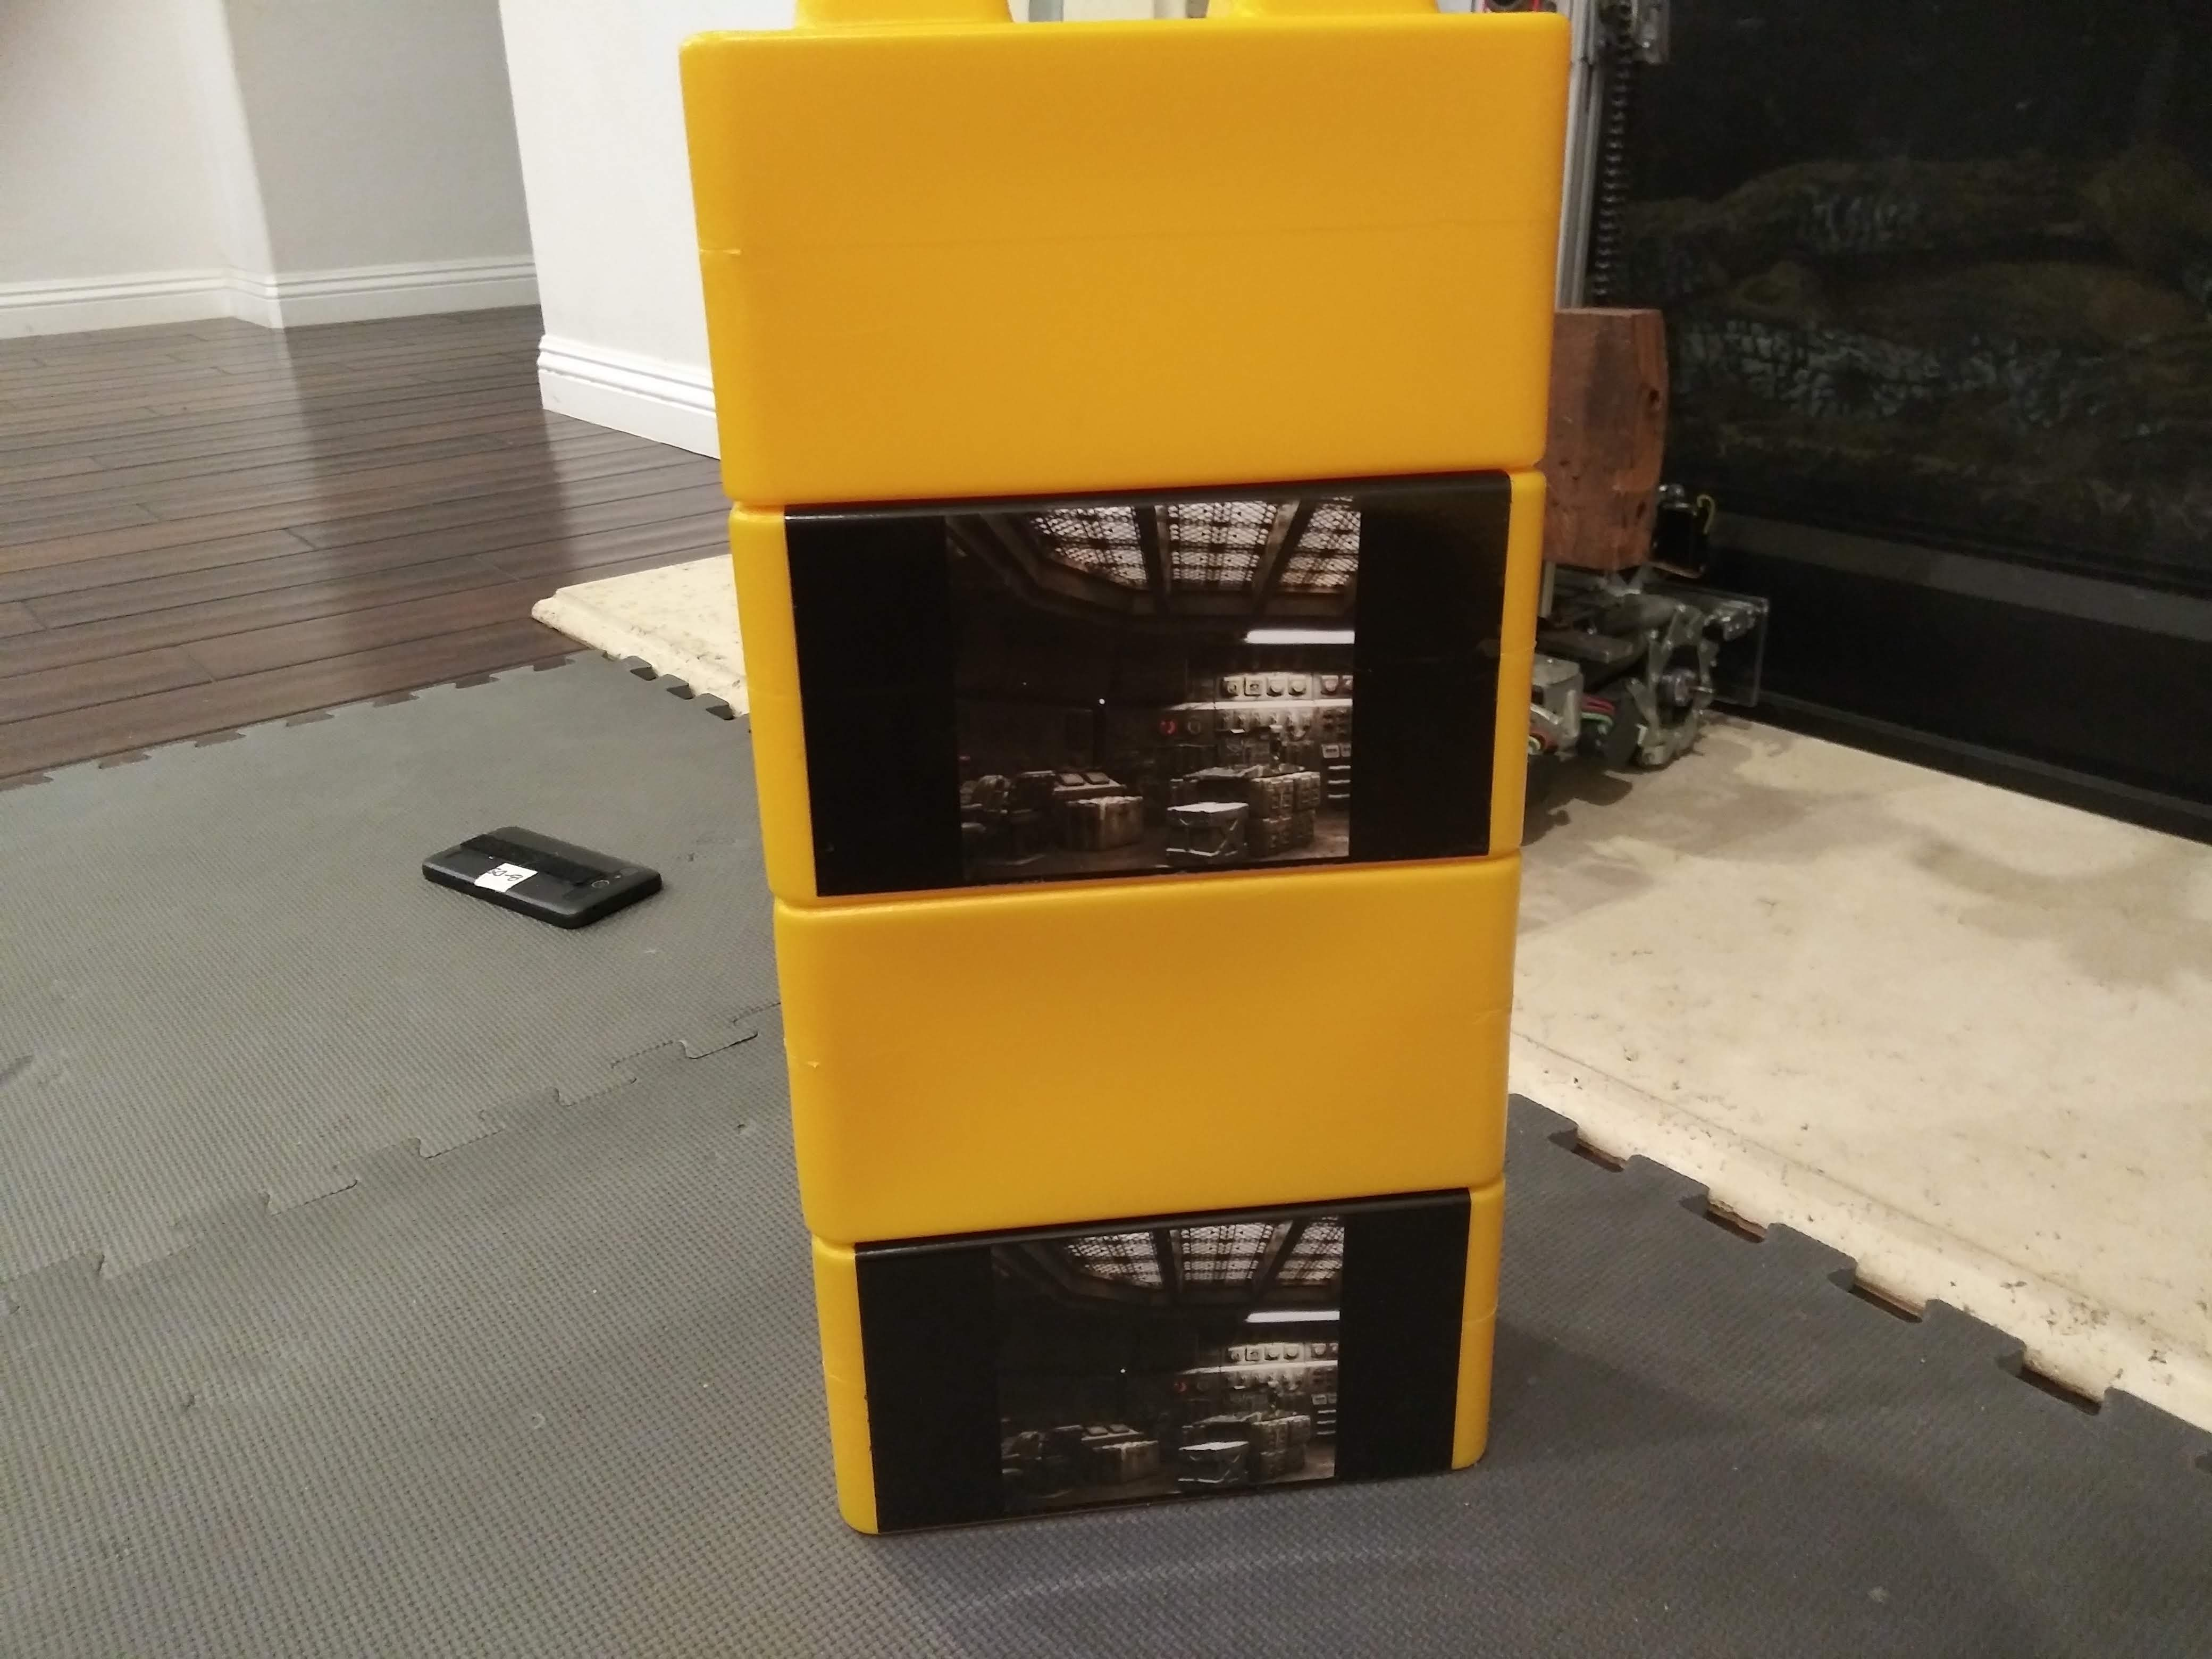skystone: (714, 500, 1569, 863), (752, 1208, 1531, 1532)
stone: (655, 19, 1571, 458), (726, 908, 1543, 1180)
